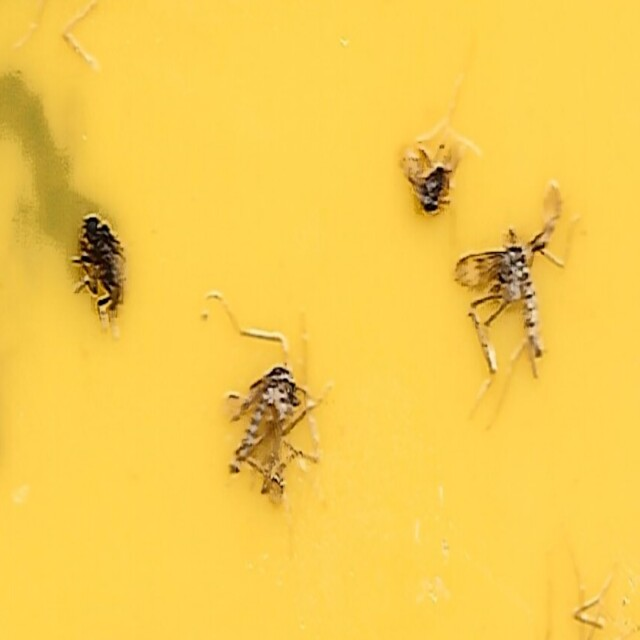Brachycera: (76, 209, 128, 332), (405, 138, 464, 222)
Nematocera: (451, 191, 564, 372), (227, 350, 307, 502)
